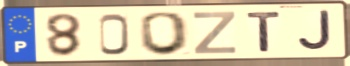0: (97, 12, 131, 56)
8: (44, 12, 85, 58)
J: (296, 9, 335, 53)
O: (138, 10, 192, 57)
T: (245, 10, 284, 54)
Z: (192, 10, 238, 55)
